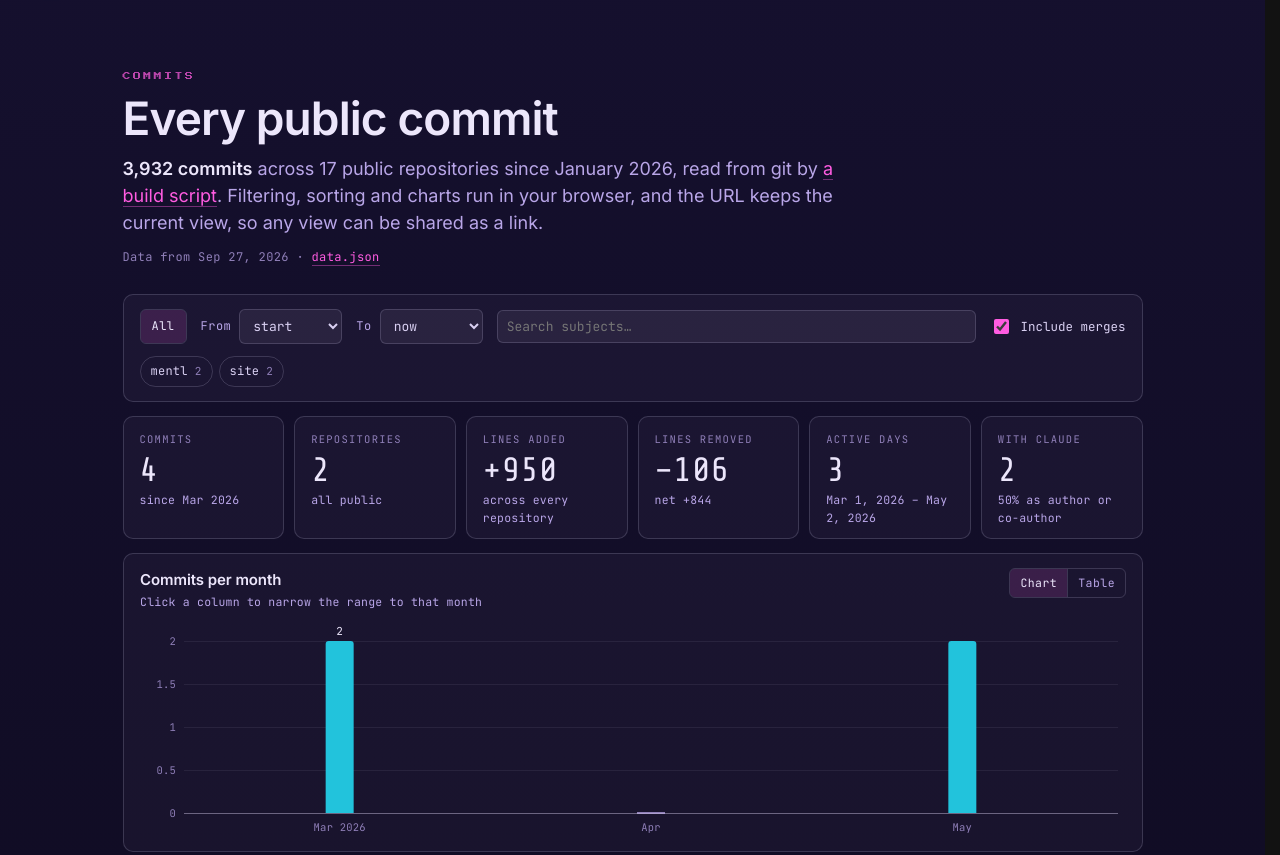
Test case: ReceiptsApp › debounces the subject search into the URL
In the search field labelled "Search subjects": [737, 327] box [497,310,976,343], type "cabinet"
Wait 200 ms
(page scrolled)
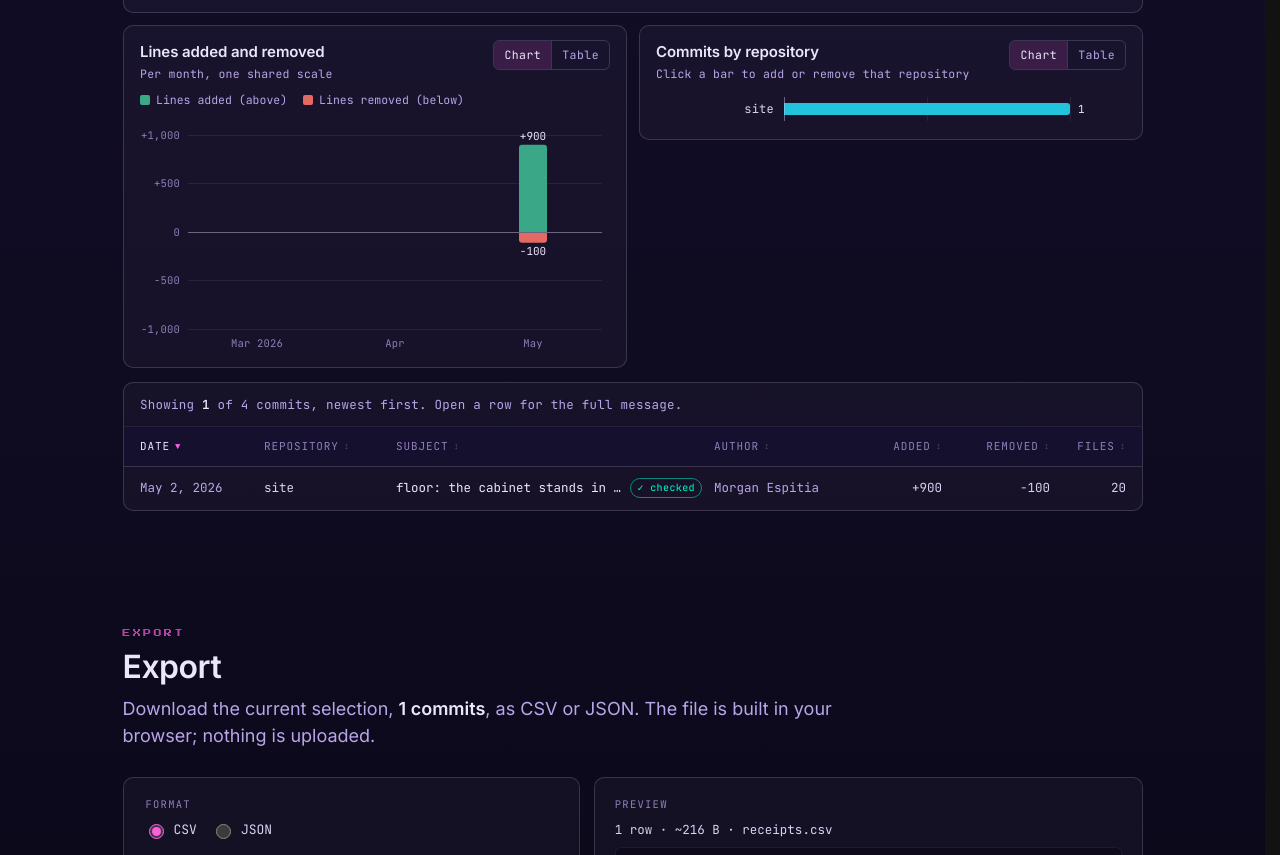
Result: the text "Showing" shows "Showing 1 of 4" at [124,383,1142,428]
